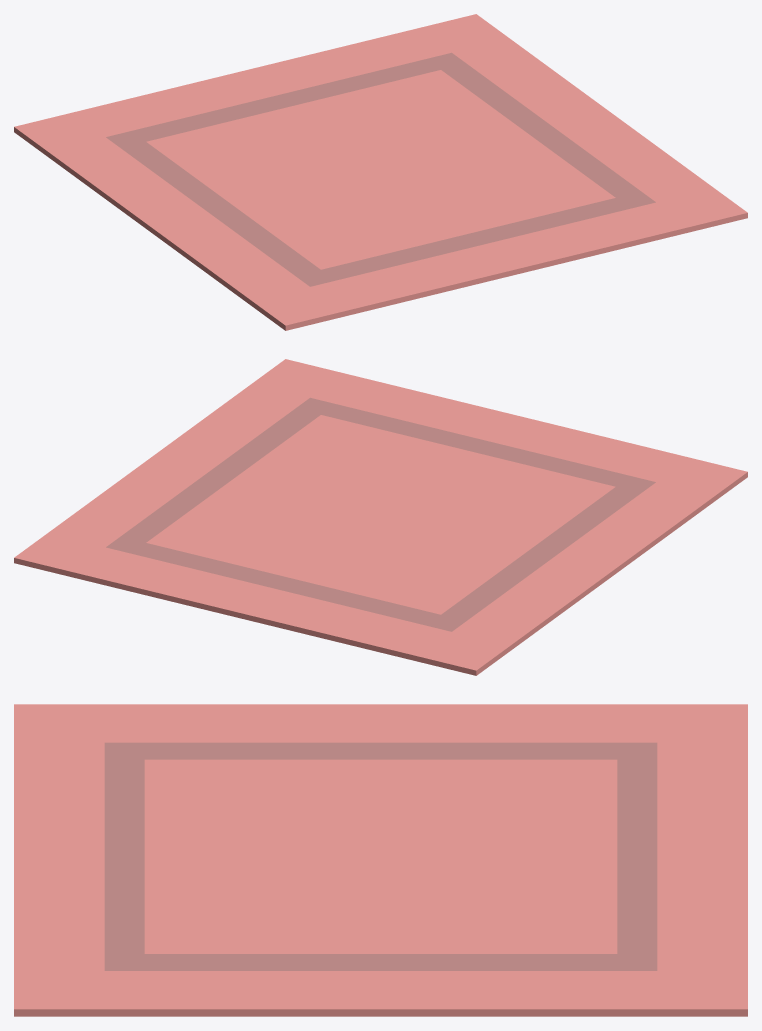
The model's file is rugSquare.glb.
3 renders of one model, top to bottom at view 1: azimuth 30°, elevation 25°; view 2: azimuth 150°, elevation 25°; view 3: azimuth 270°, elevation 25°, orthographic. The views are drawn at different scales.
Parts seen in each view (by area): view 1: rugSquare(Clone); view 2: rugSquare(Clone); view 3: rugSquare(Clone).
Part boxes in pixels (bbox=[...]): rugSquare(Clone): bbox=[14, 14, 747, 330]; rugSquare(Clone): bbox=[14, 359, 747, 675]; rugSquare(Clone): bbox=[14, 704, 747, 1016].
Size of the model in its own units: 1.84 by 0.0203 by 1.87.
2 materials, 2 textured.
